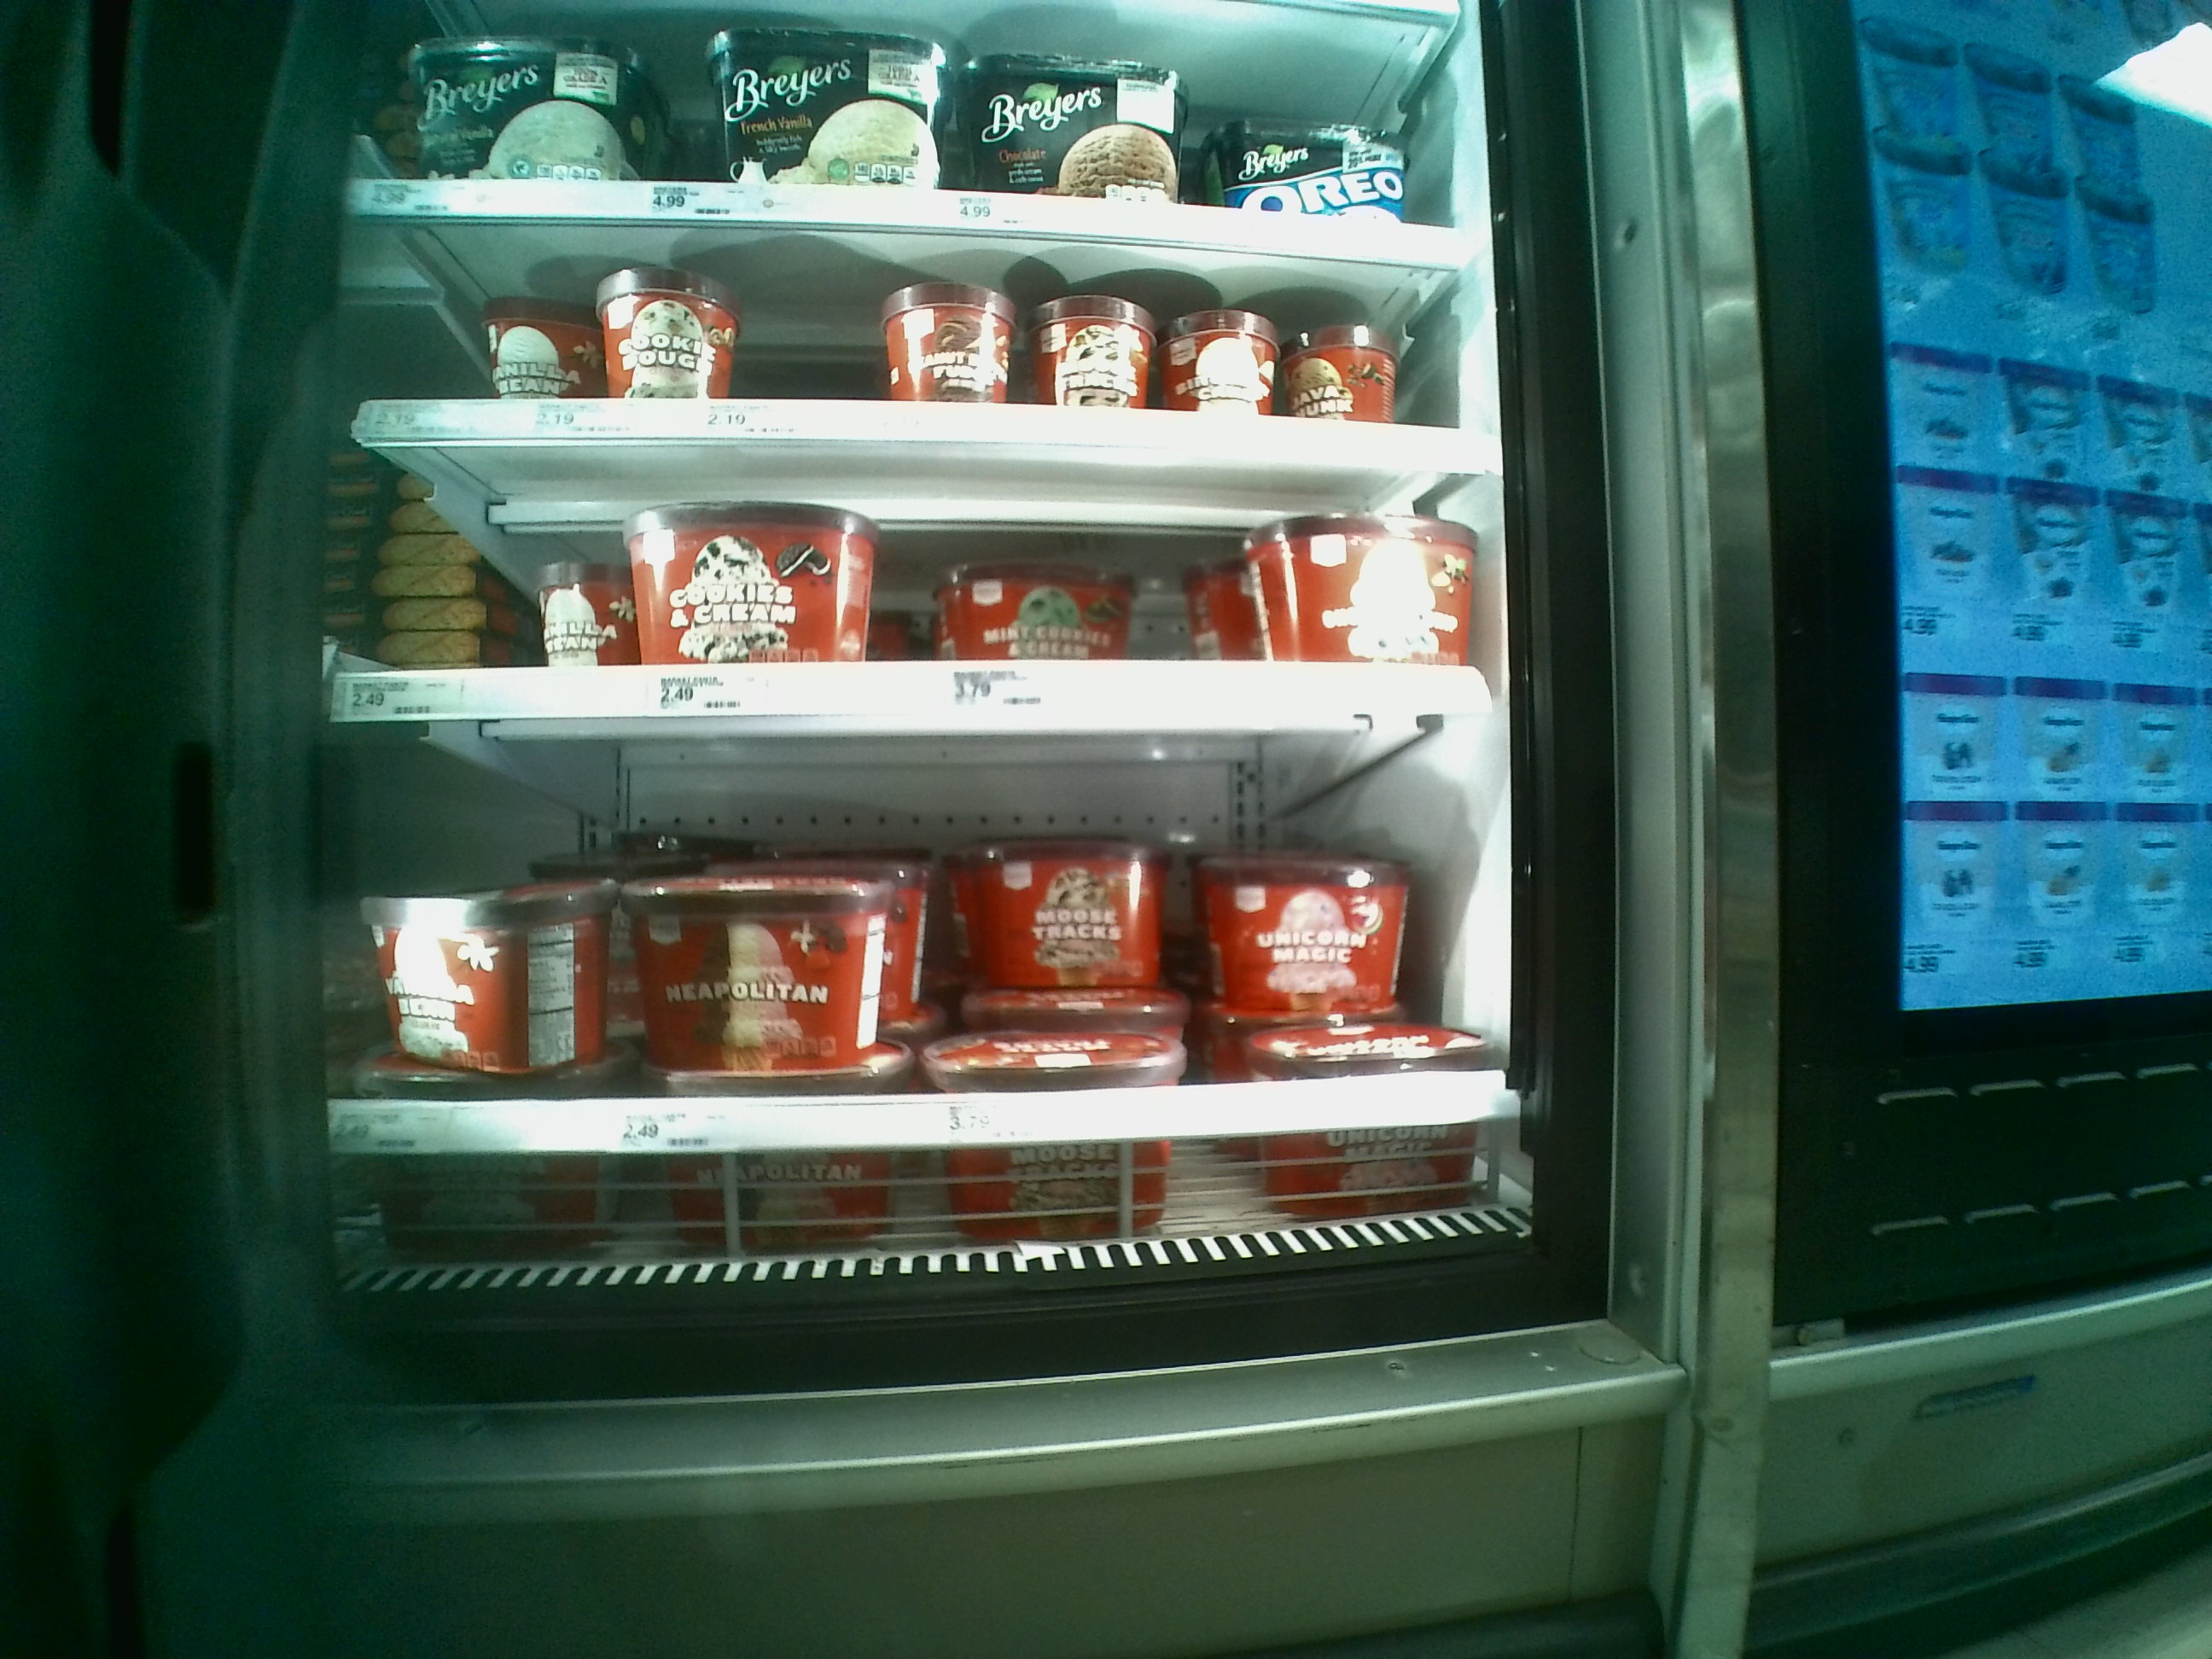ice-cream-shelf: (334, 746, 1508, 1159), (319, 486, 1486, 751), (341, 214, 1477, 483)
